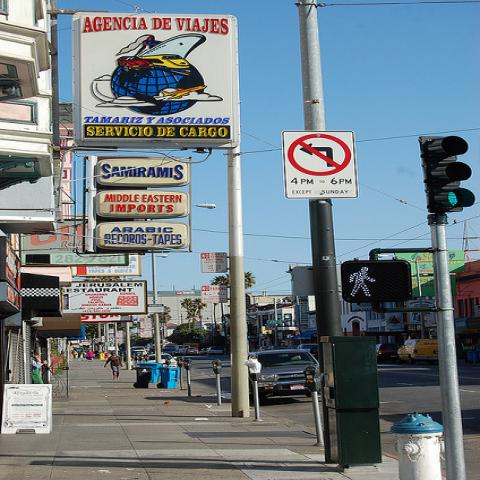car: (376, 343, 403, 365), (147, 354, 177, 367), (182, 347, 200, 356), (206, 347, 224, 354), (200, 348, 207, 355)
truck: (248, 350, 321, 400), (396, 338, 437, 365), (130, 346, 148, 359), (163, 345, 189, 353), (183, 343, 199, 350), (271, 346, 288, 350)
